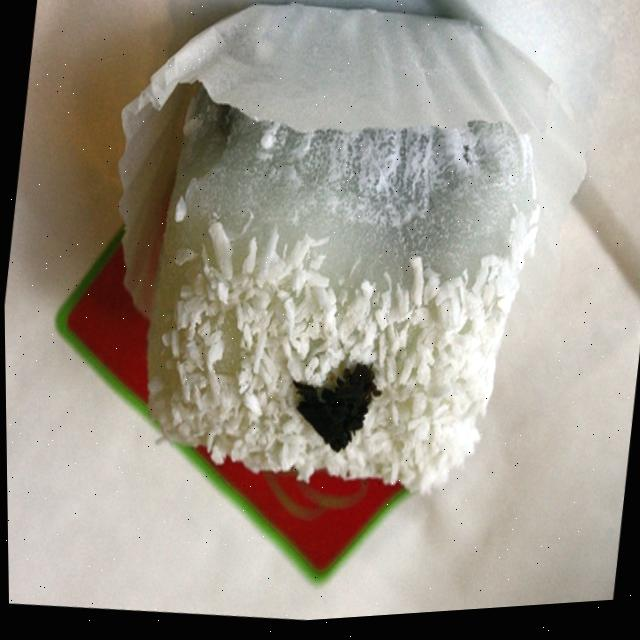蛋糕甜品: (57, 0, 611, 539)
